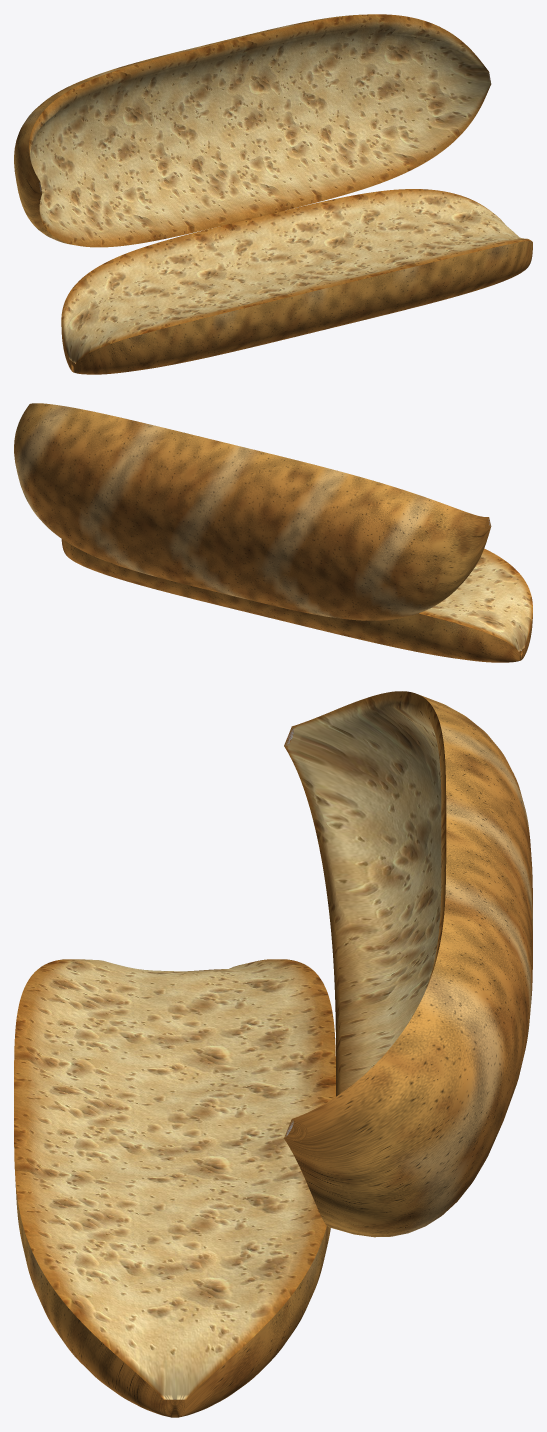
The model's file is pao.glb.
The picture shows the model from 3 angles, top to bottom: view 1: azimuth 30°, elevation 25°; view 2: azimuth 150°, elevation 25°; view 3: azimuth 270°, elevation 25°; orthographic projection. The views are drawn at different scales.
Parts seen in each view (by area): view 1: pao_tampa, pao_base; view 2: pao_tampa, pao_base; view 3: pao_base, pao_tampa.
Part boxes in pixels (box(x1,y1,x2,y2)): pao_tampa: box(14, 14, 491, 247); pao_base: box(61, 189, 532, 374); pao_tampa: box(14, 403, 491, 620); pao_base: box(61, 539, 532, 662); pao_base: box(14, 959, 335, 1417); pao_tampa: box(284, 691, 532, 1237).
Size of the model in its own units: 0.2998 by 0.1397 by 0.1676.
Materials: 2 (2 with a texture image).
